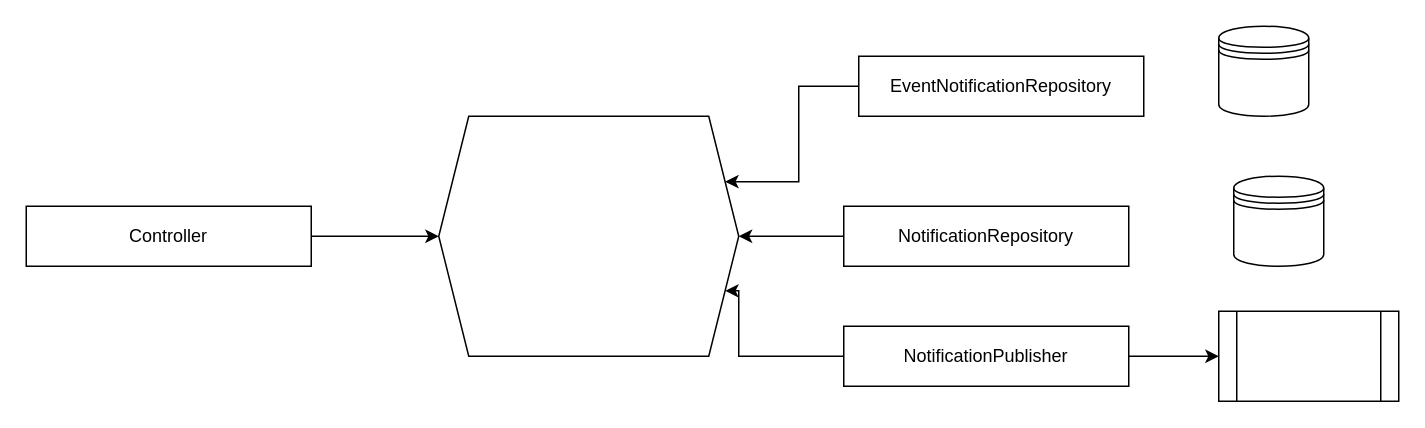
Some shapes in this 1425 by 428 pixel diagram are drawn without their labels. Each missing label, with the box of its shape:
Domain: (437, 115, 739, 356)
Rest Service: (1217, 310, 1399, 401)
